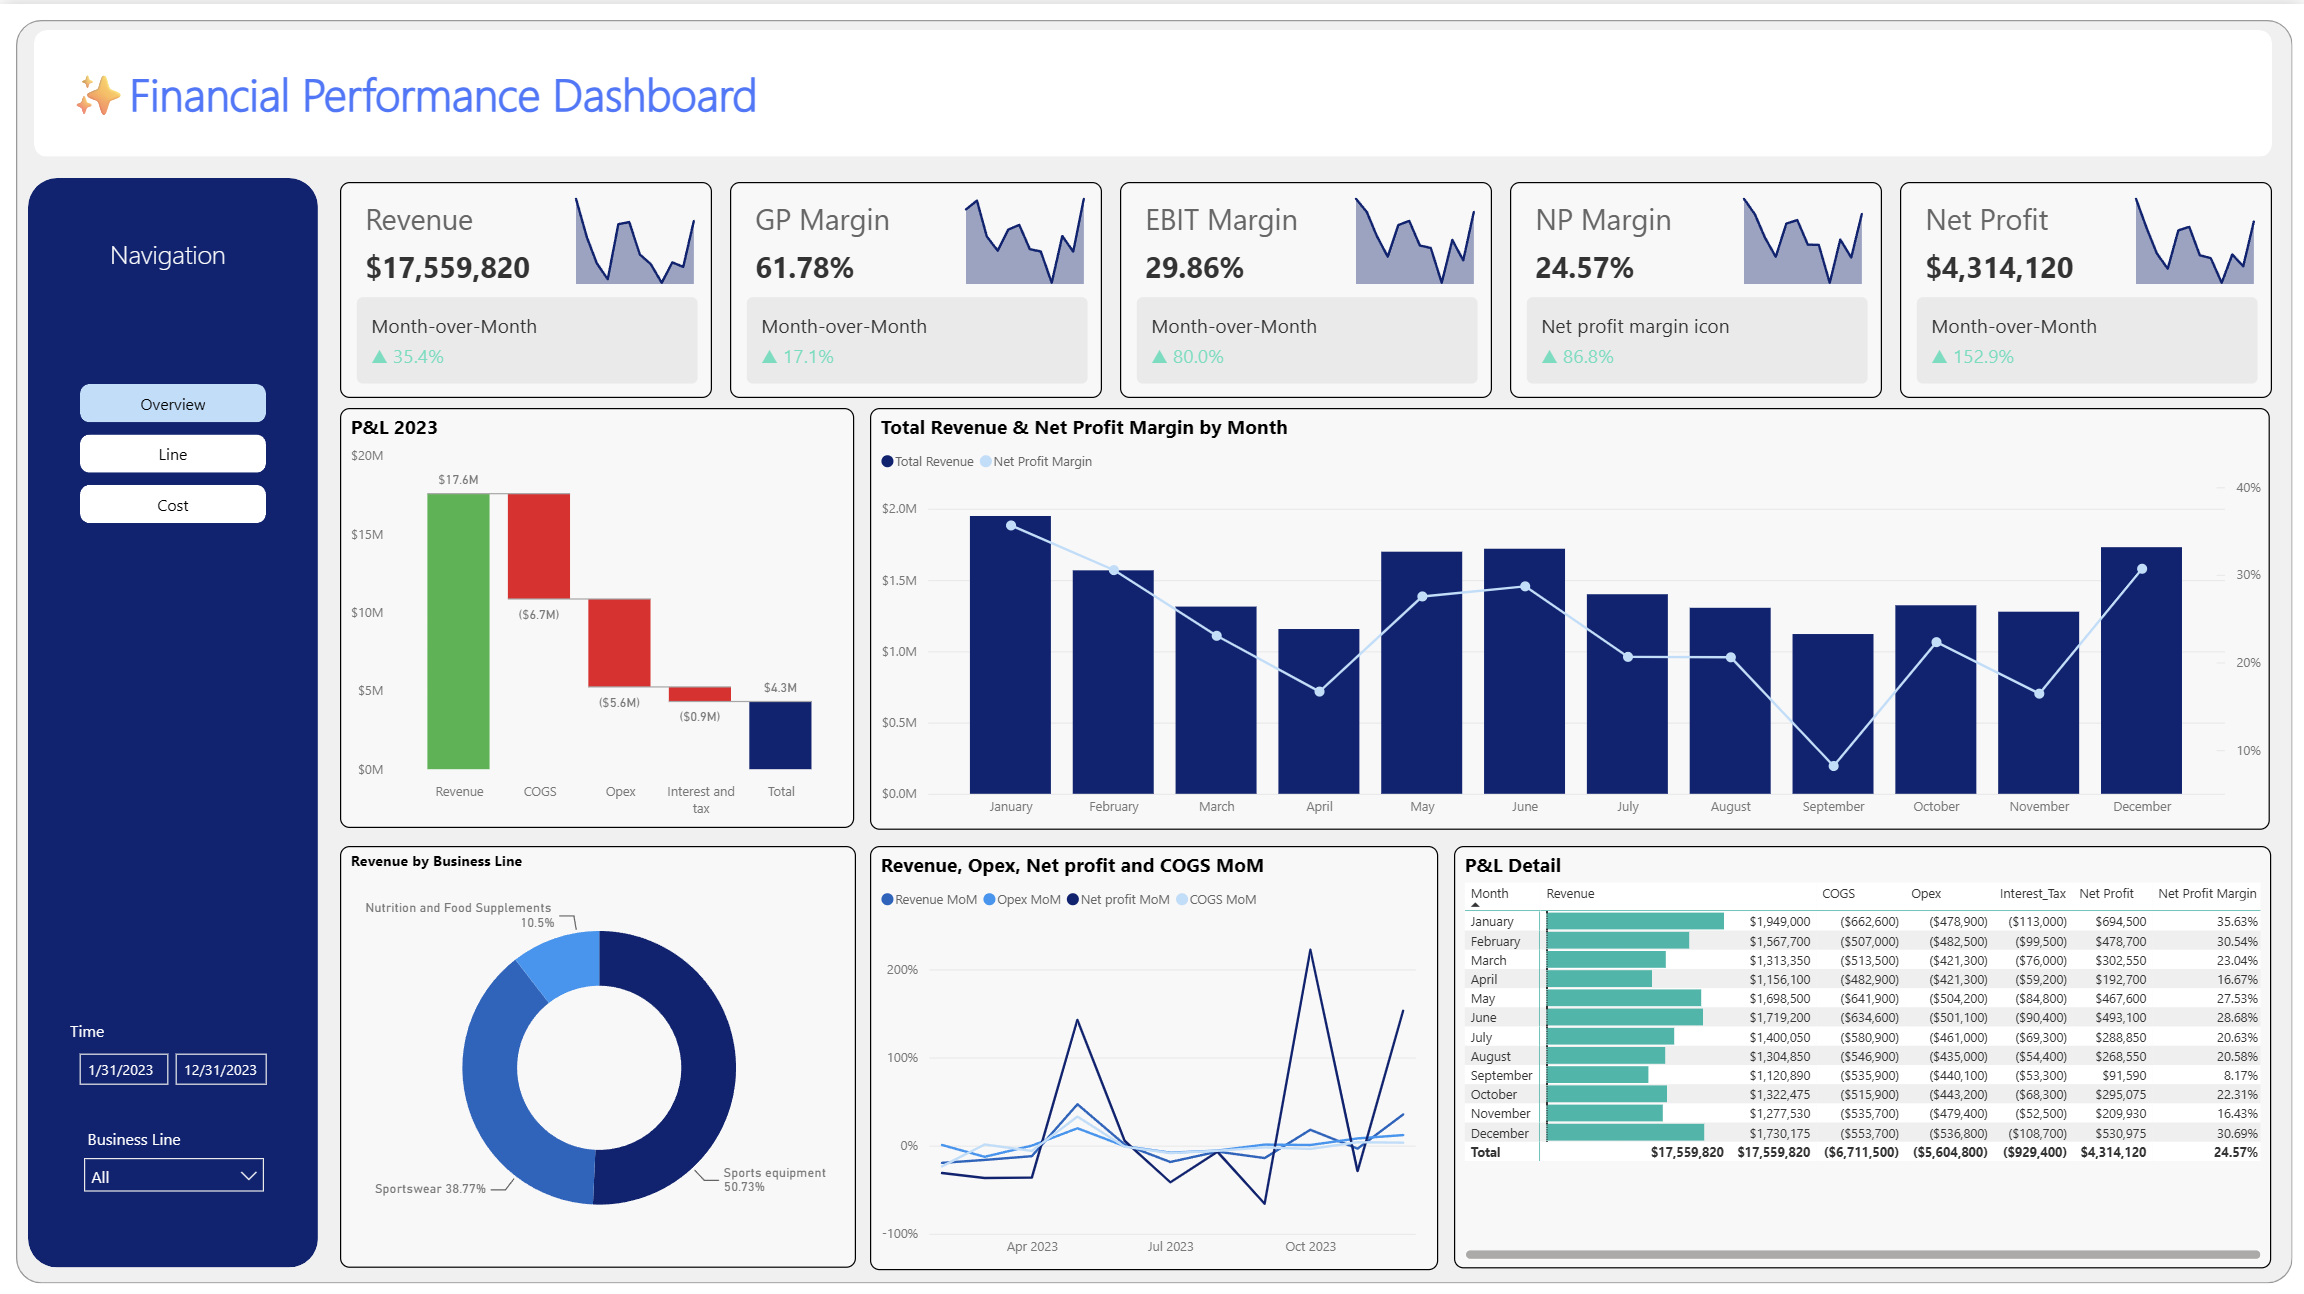

The page's visual inventory and layout, read from the dashboard file:
{"tool":"powerbi","page":{"name":"Overview","canvas":[1920,1080],"ordinal":0},"visuals":[{"type":"cardVisual","fields":{"Data":["*Measure.Total Revenue"]},"box":[282.9,148.9,310,180],"z":0,"group":"g1"},{"type":"shape","box":[72.7,169.3,143.6,27.9],"z":0},{"type":"shape","box":[12.8,14,1897.2,1052.8],"z":1000},{"type":"cardVisual","fields":{"Data":["*Measure.Net Profit"]},"box":[1582.5,148.9,310,180],"z":1000,"group":"g1"},{"type":"cardVisual","fields":{"Data":["*Measure.Gross Profit Margin"]},"box":[607.8,148.9,310,180],"z":2000,"group":"g1"},{"type":"shape","box":[72.7,220,143.6,29.3],"z":2000},{"type":"shape","box":[22.7,144.5,241.7,907.9],"z":3000,"group":"g3"},{"type":"cardVisual","fields":{"Data":["*Measure.EBIT Margin"]},"box":[932.7,148.9,310,180],"z":3000,"group":"g1"},{"type":"shape","box":[27.9,22.1,1865,105.7],"z":4000},{"type":"cardVisual","fields":{"Data":["*Measure.Net Profit Margin"]},"box":[1257.6,148.9,310,180],"z":4000,"group":"g1"},{"type":"textbox","box":[85.7,187.2,115.7,42.9],"z":5000,"group":"g2"},{"type":"textbox","box":[51.4,43.6,625,62.9],"z":6000},{"type":"waterfallChart","title":"P&L 2023","fields":{"Category":["Group.Group"],"Y":["Sum(Fact.Amount)"]},"box":[282.9,337.1,428.6,350],"z":7000},{"type":"group","id":"g1","title":"Group 2","box":[282.9,148.9,1609.6,180],"z":8000},{"type":"lineChart","title":"Revenue, Opex, Net profit and COGS MoM ","fields":{"Category":["Calendar.StartOfMonth"],"Y":["*Measure.Revenue MoM","*Measure.Opex MoM","*Measure.Net profit MoM","*Measure.COGS MoM"]},"box":[725,701.7,473.3,353.3],"z":9000},{"type":"donutChart","title":"Revenue by Business Line","fields":{"Category":["Business Line.Business Line"],"Y":["*Measure.Total Revenue"]},"box":[283.3,701.7,430,351.7],"z":10000},{"type":"lineClusteredColumnComboChart","title":"Total Revenue & Net Profit Margin by Month","fields":{"Category":["Calendar.StartOfMonth.Variation.Date Hierarchy.Month"],"Y":["*Measure.Total Revenue"],"Y2":["*Measure.Net Profit Margin"]},"box":[725,336.7,1166.7,351.7],"z":11000},{"type":"lineChart","fields":{"Category":["dim_calendar.StartOfMonth"],"Y":["*Measure.Total Revenue"]},"box":[465.5,149.1,128.2,90],"z":12000},{"type":"lineChart","fields":{"Category":["dim_calendar.StartOfMonth"],"Y":["*Measure.Gross Profit Margin"]},"box":[790,149.1,128.2,90],"z":13000},{"type":"lineChart","fields":{"Category":["dim_calendar.StartOfMonth"],"Y":["*Measure.EBIT Margin"]},"box":[1114.5,149.1,128.2,90],"z":14000},{"type":"lineChart","fields":{"Category":["dim_calendar.StartOfMonth"],"Y":["*Measure.Net Profit Margin"]},"box":[1439.1,149.1,128.2,90],"z":15000},{"type":"lineChart","fields":{"Category":["dim_calendar.StartOfMonth"],"Y":["*Measure.Net Profit"]},"box":[1764.5,149.1,128.2,90],"z":16000},{"type":"pivotTable","title":"P&L Detail ","fields":{"Rows":["dim_calendar.Date.Variation.Date Hierarchy.Month"],"Values":["*Measure.Total Revenue","*Measure.Total Revenue_1","*Measure.Total COGS","*Measure.Total Opex","*Measure.Total Interest_Tax","*Measure.Net Profit","*Measure.Net Profit Margin"]},"box":[1212.2,702.2,681.1,352.2],"z":17000},{"type":"pageNavigator","box":[66.1,315.1,155,117.5],"z":18000,"group":"g2"},{"type":"slicer","title":"Time","fields":{"Values":["dim_calendar.Date"]},"box":[52.3,845.1,182.5,66.2],"z":19000,"group":"g2"},{"type":"slicer","fields":{"Values":["Business Line.Business Line"]},"box":[58.5,930.9,170,66.7],"z":20000,"group":"g2"},{"type":"group","id":"g2","title":"Group 1","box":[52.3,187.2,182.5,810.4],"z":20001,"group":"g3"},{"type":"group","id":"g3","title":"Group 3","box":[22.7,144.5,241.7,907.9],"z":20002}]}

Visuals, with their boxes in screenshot pixels (x1, y1, x2, y2), scaled from the page's 1920x1080 canvas onto the 2304x1294 screenshot:
cardVisual - *Measure.Total Revenue: select_region(339, 178, 711, 394)
shape: select_region(87, 203, 260, 236)
shape: select_region(15, 17, 2292, 1278)
cardVisual - *Measure.Net Profit: select_region(1899, 178, 2271, 394)
cardVisual - *Measure.Gross Profit Margin: select_region(729, 178, 1101, 394)
shape: select_region(87, 264, 260, 299)
shape: select_region(27, 173, 317, 1261)
cardVisual - *Measure.EBIT Margin: select_region(1119, 178, 1491, 394)
shape: select_region(33, 26, 2271, 153)
cardVisual - *Measure.Net Profit Margin: select_region(1509, 178, 1881, 394)
textbox: select_region(103, 224, 242, 276)
textbox: select_region(62, 52, 812, 128)
"P&L 2023" waterfallChart: select_region(339, 404, 854, 823)
"Group 2" group: select_region(339, 178, 2271, 394)
"Revenue, Opex, Net profit and COGS MoM " lineChart: select_region(870, 841, 1438, 1264)
"Revenue by Business Line" donutChart: select_region(340, 841, 856, 1262)
"Total Revenue & Net Profit Margin by Month" lineClusteredColumnComboChart: select_region(870, 403, 2270, 825)
lineChart - dim_calendar.StartOfMonth x *Measure.Total Revenue: select_region(559, 179, 712, 286)
lineChart - dim_calendar.StartOfMonth x *Measure.Gross Profit Margin: select_region(948, 179, 1102, 286)
lineChart - dim_calendar.StartOfMonth x *Measure.EBIT Margin: select_region(1337, 179, 1491, 286)
lineChart - dim_calendar.StartOfMonth x *Measure.Net Profit Margin: select_region(1727, 179, 1881, 286)
lineChart - dim_calendar.StartOfMonth x *Measure.Net Profit: select_region(2117, 179, 2271, 286)
"P&L Detail " pivotTable: select_region(1455, 841, 2272, 1263)
pageNavigator: select_region(79, 378, 265, 518)
"Time" slicer: select_region(63, 1013, 282, 1092)
slicer - Business Line.Business Line: select_region(70, 1115, 274, 1195)
"Group 1" group: select_region(63, 224, 282, 1195)
"Group 3" group: select_region(27, 173, 317, 1261)
